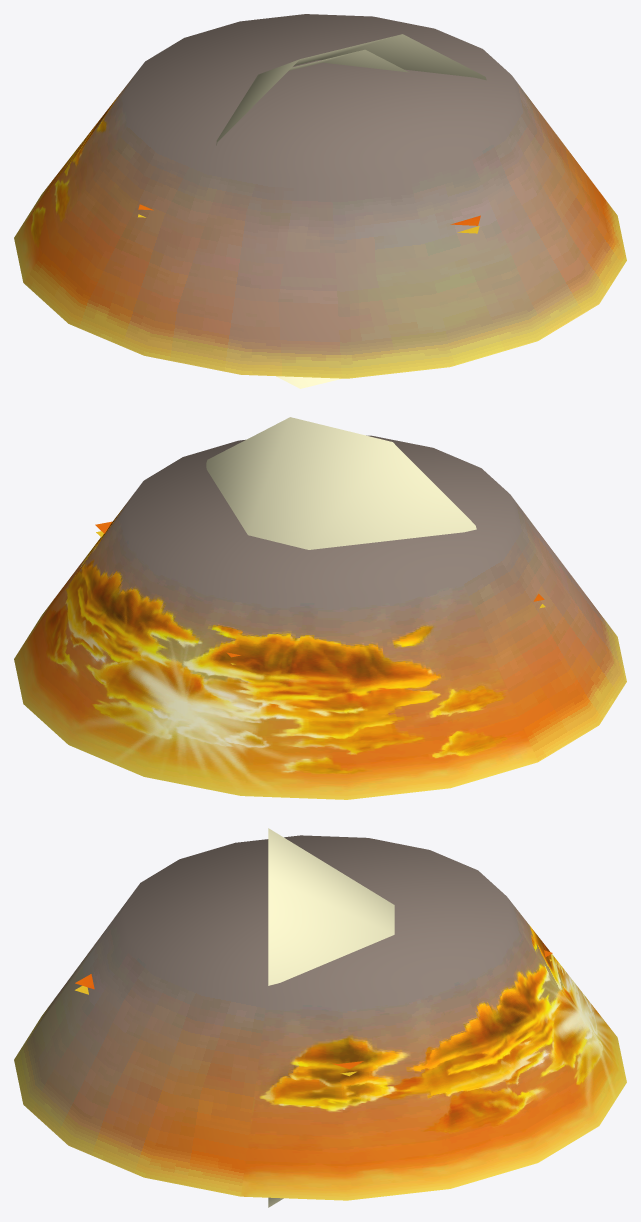
Rendered from TROLLHOLESKYBOX.fbx.
The picture shows the model from 3 angles, top to bottom: view 1: azimuth 30°, elevation 25°; view 2: azimuth 150°, elevation 25°; view 3: azimuth 270°, elevation 25°; orthographic projection.
Visible parts, largest first — view 1: TROLLHOLESKYBOX; view 2: TROLLHOLESKYBOX; view 3: TROLLHOLESKYBOX.
Boxes of the visible parts, box(x1,y1,x2,y2) form: TROLLHOLESKYBOX: box(14, 14, 626, 388); TROLLHOLESKYBOX: box(14, 417, 626, 799); TROLLHOLESKYBOX: box(14, 828, 626, 1207).
Bounding box in the file's own units: 881822 × 523681 × 881822.
Materials: 11 (11 with a texture image).
